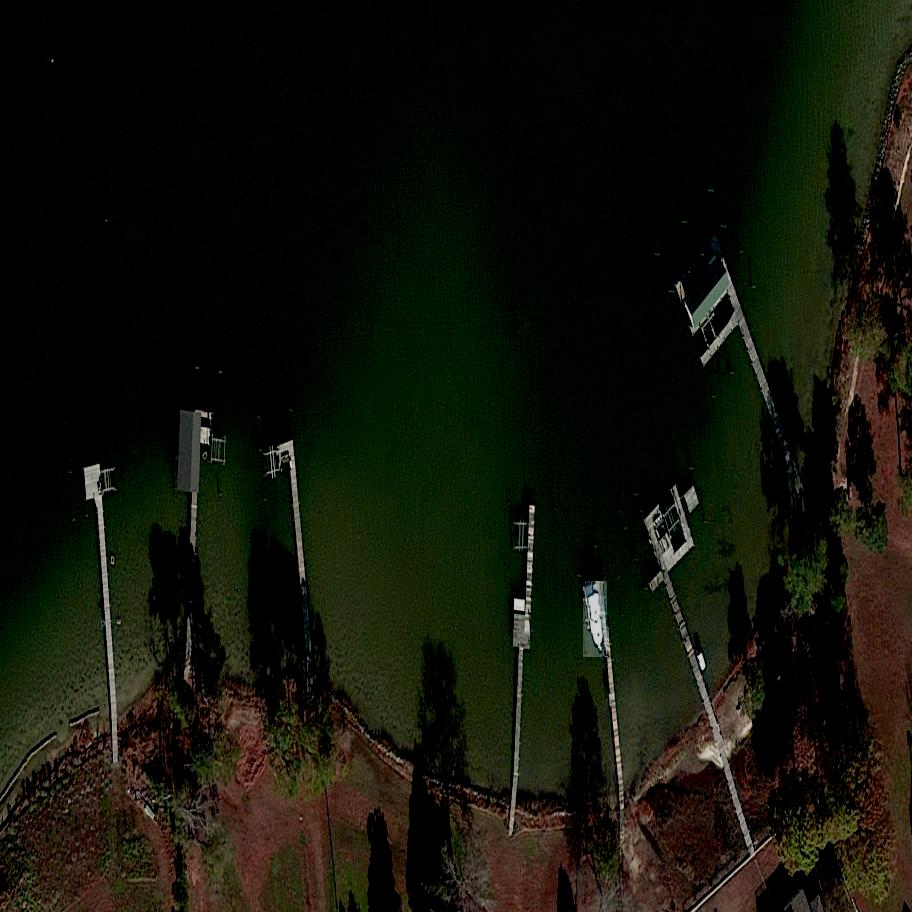ship: (584, 582, 609, 658)
